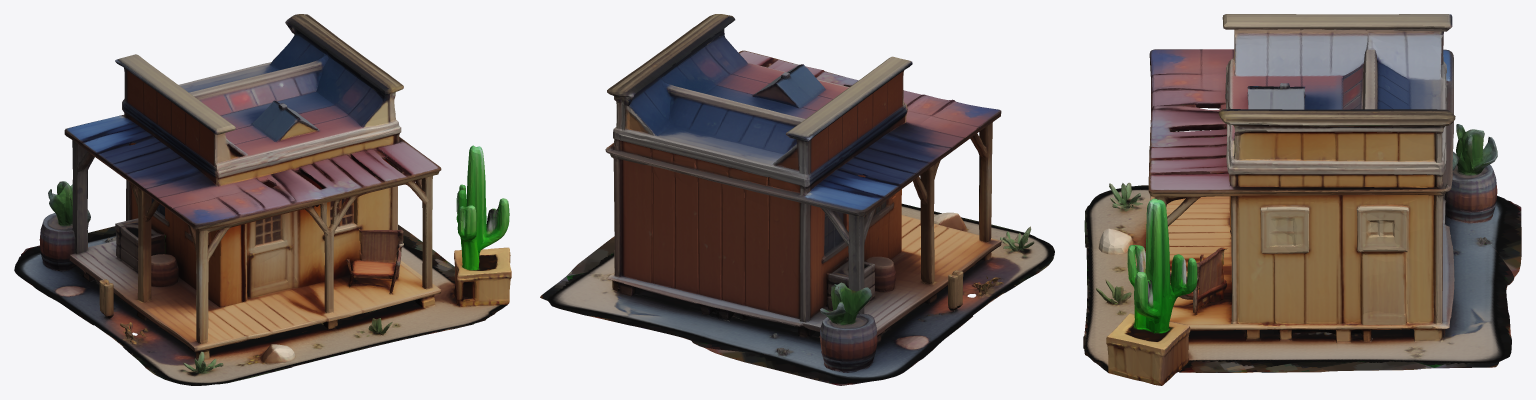
File: abc.fbx
3 renders of one model, left to right at view 1: azimuth 30°, elevation 25°; view 2: azimuth 150°, elevation 25°; view 3: azimuth 270°, elevation 25°, orthographic. The views are drawn at different scales.
Parts seen in each view (by area): view 1: geometry_0; view 2: geometry_0; view 3: geometry_0.
Part boxes in pixels (bbox=[...]): geometry_0: bbox=[14, 14, 511, 385]; geometry_0: bbox=[540, 14, 1054, 385]; geometry_0: bbox=[1083, 14, 1521, 385].
Size of the model in its own units: 310 by 166 by 283.
Materials: 1 (1 with a texture image).
